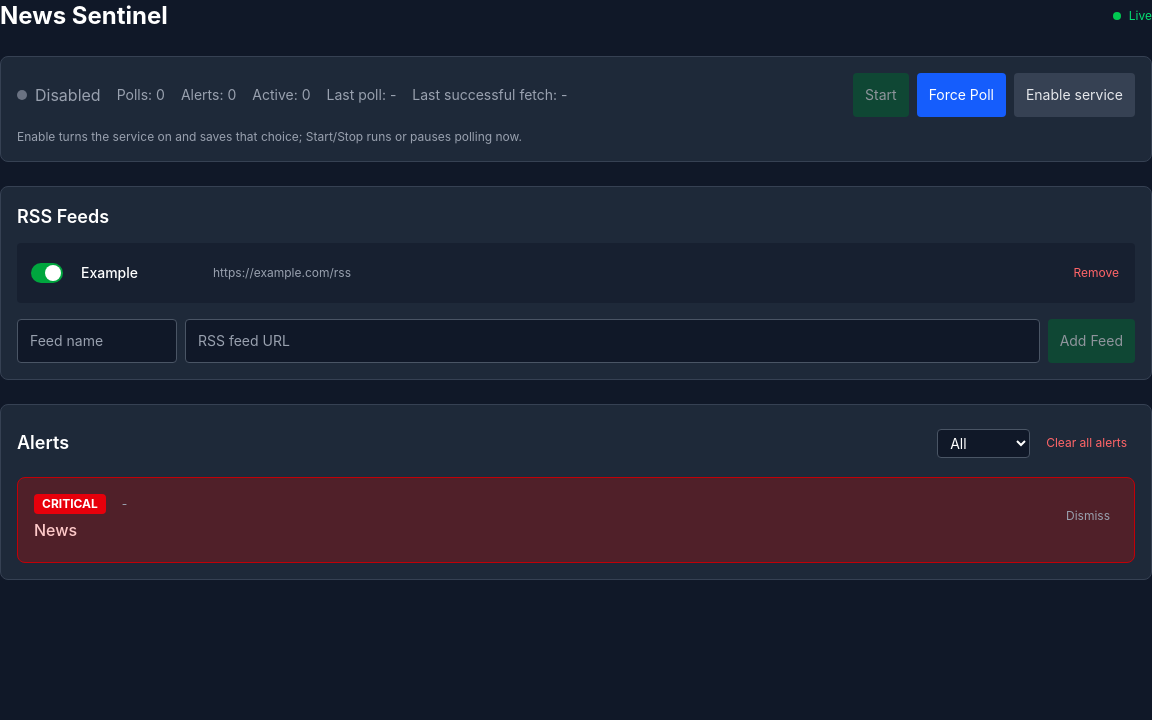
Test case: clearing alerts retains rows after a failed write
Click the button "Clear all alerts" at x=1087, y=443, box [1038, 421, 1135, 465]
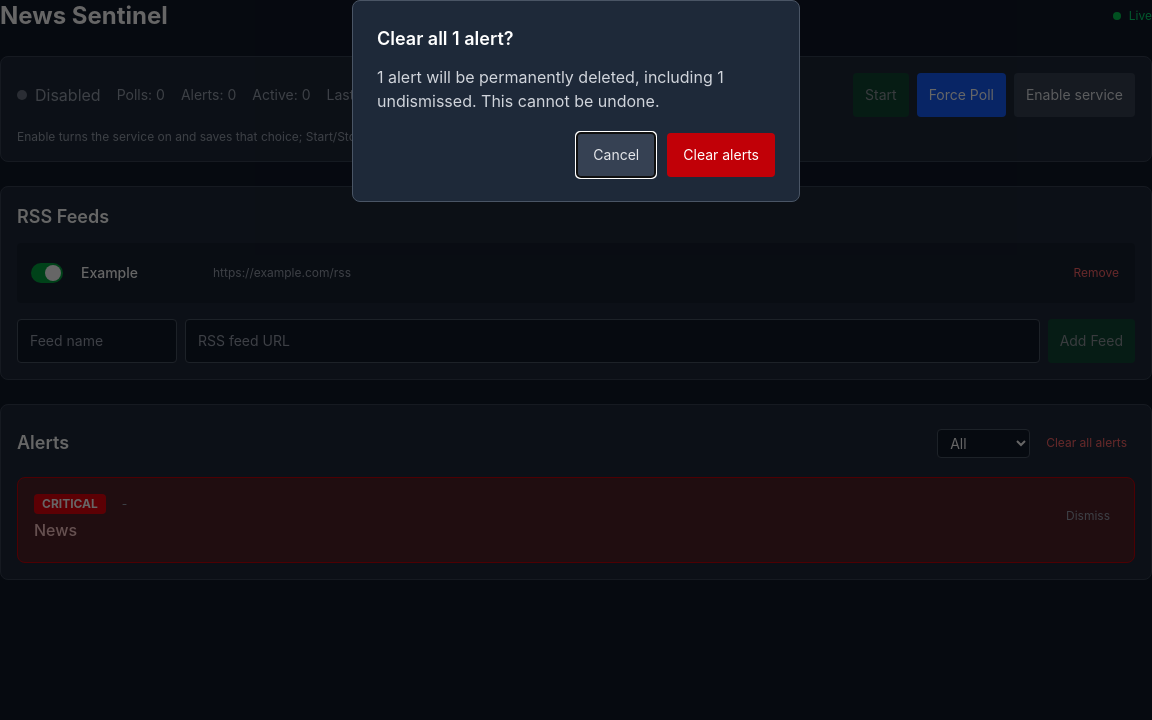
expect the button "Clear alerts" is shown: met
Click the button "Clear alerts" at x=721, y=155, box [667, 133, 775, 177]
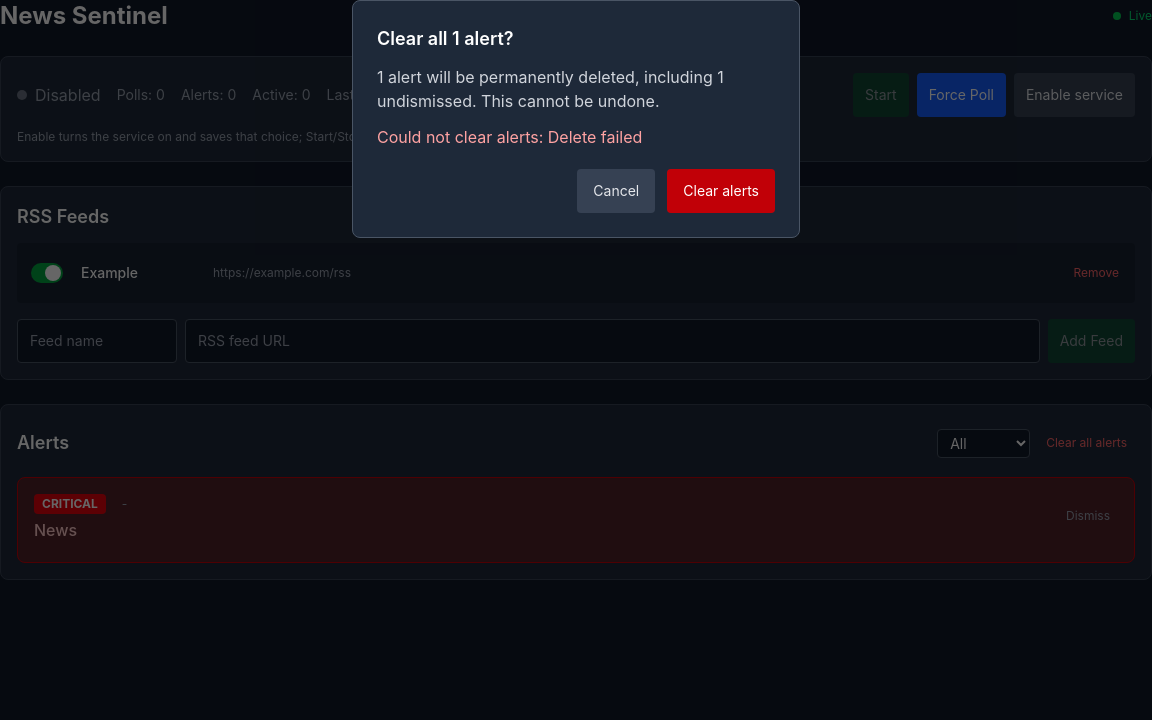
expect the heading "News" is shown: met, box [34, 520, 77, 540]
expect the dialog is shown: met, box [352, 0, 800, 238]
expect the message "Could not clear alerts: Delete failed" is shown: met, box [377, 127, 642, 147]
